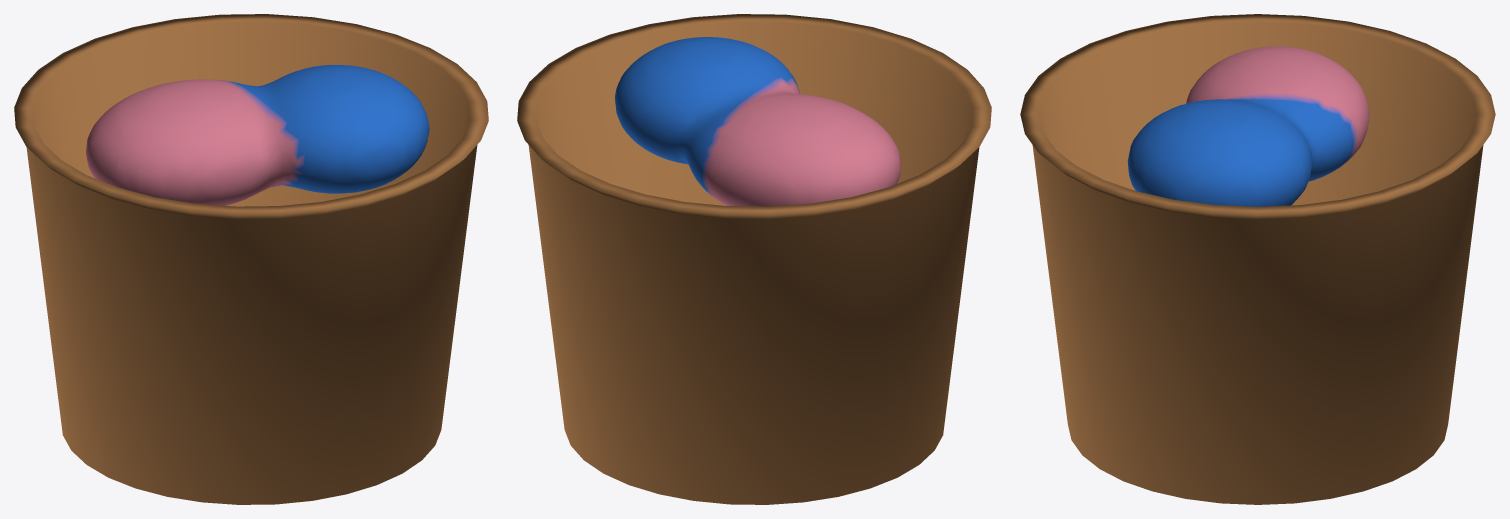
The model's file is laundry_basket.glb.
3 renders of one model, left to right at view 1: azimuth 30°, elevation 25°; view 2: azimuth 150°, elevation 25°; view 3: azimuth 270°, elevation 25°, orthographic.
Visible parts, largest first — view 1: laundry_basket; view 2: laundry_basket; view 3: laundry_basket.
Part boxes in pixels (x1,y1,x2,y2): laundry_basket: [14, 14, 488, 504]; laundry_basket: [517, 14, 991, 504]; laundry_basket: [1020, 14, 1495, 504].
Size of the model in its own units: 0.5 by 0.3991 by 0.5.
